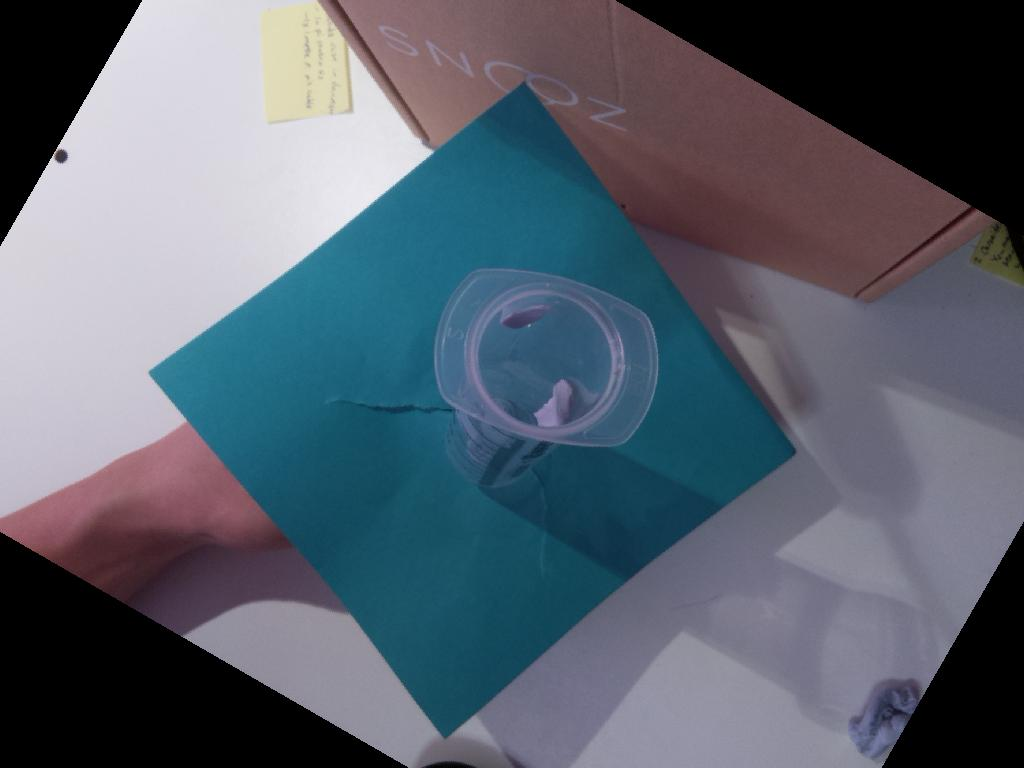dirty: (432, 267, 660, 449)
